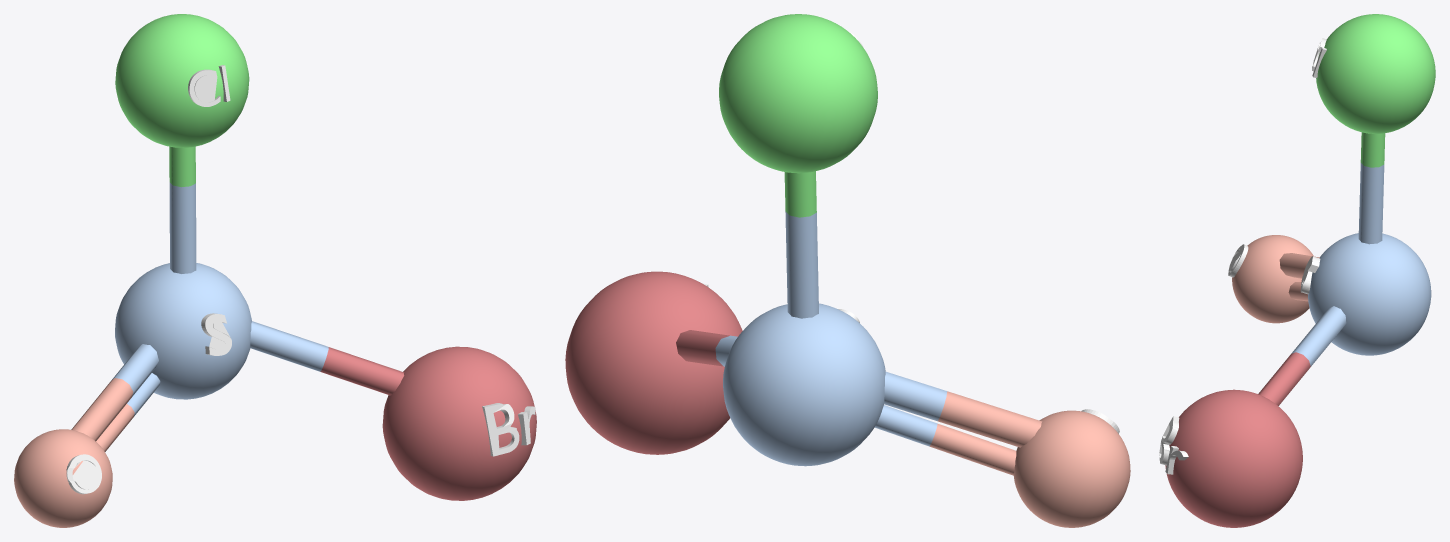
Rendered from SOClBr_new.fbx.
The picture shows the model from 3 angles, left to right: view 1: azimuth 30°, elevation 25°; view 2: azimuth 150°, elevation 25°; view 3: azimuth 270°, elevation 25°; orthographic projection. The views are drawn at different scales.
Parts seen in each view (by area): view 1: SOClBr; view 2: SOClBr; view 3: SOClBr.
Boxes of the visible parts, <box> form: SOClBr: <box>14,14,536,527</box>; SOClBr: <box>565,14,1130,527</box>; SOClBr: <box>1159,14,1435,527</box>.
Bounding box in the file's own units: 411 × 378 × 228.
